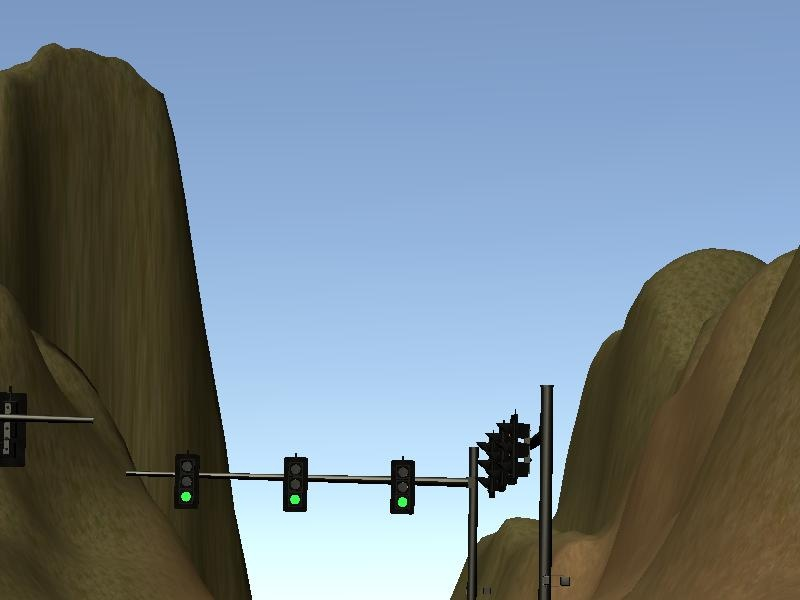GREEN: (388, 459, 414, 513), (281, 457, 306, 510), (173, 455, 198, 508)
